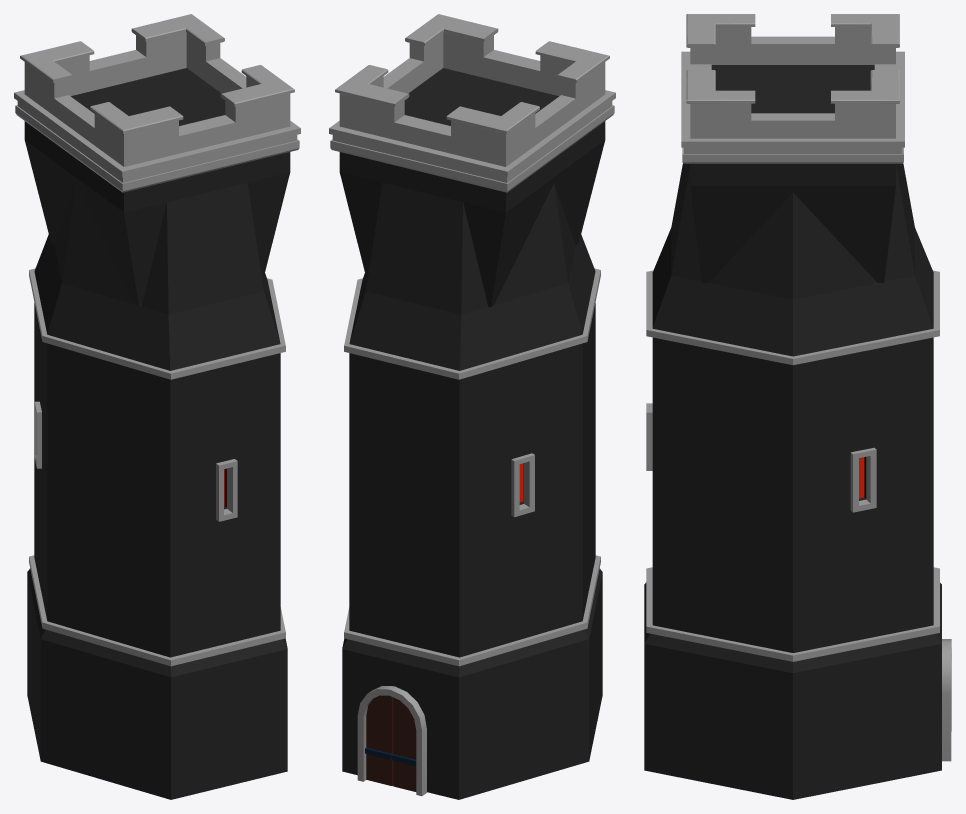
File: citadel_tower_d.FBX
3 renders of one model, left to right at view 1: azimuth 30°, elevation 25°; view 2: azimuth 150°, elevation 25°; view 3: azimuth 270°, elevation 25°, orthographic. The views are drawn at different scales.
Parts seen in each view (by area): view 1: citadel_tower_d; view 2: citadel_tower_d; view 3: citadel_tower_d.
Part boxes in pixels (x1=…): citadel_tower_d: x1=14, y1=14, x2=300, y2=799; citadel_tower_d: x1=329, y1=14, x2=615, y2=799; citadel_tower_d: x1=644, y1=14, x2=951, y2=799.
Bounding box in the file's own units: 717 × 1943 × 790.
